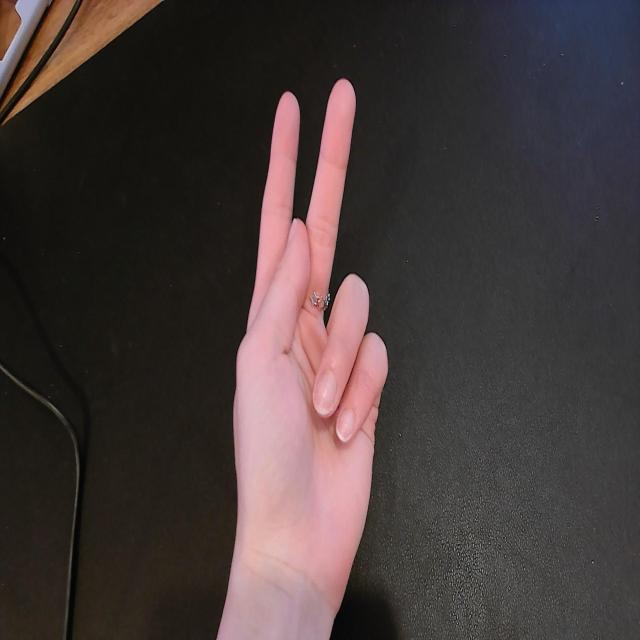K: (222, 73, 393, 590)
